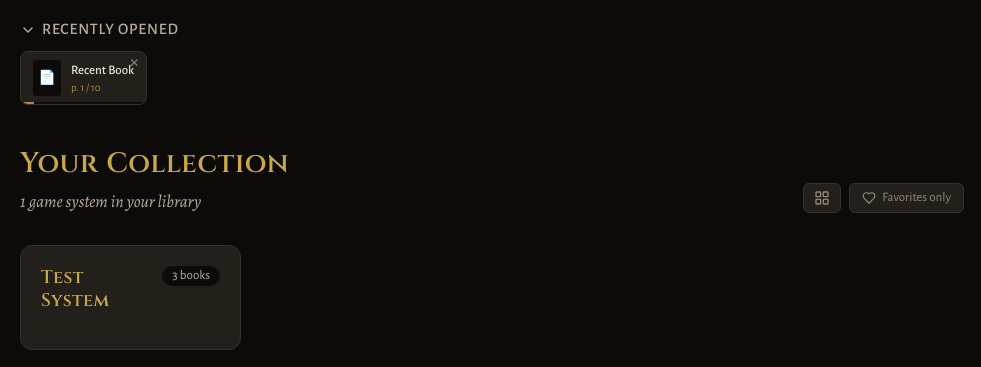
Test: LibraryView › recently opened › collapses and expands the recently opened section
expect the text "Recent Book" is shown: met, box [71,62,134,78]
Click the button "Recently Opened" at (99, 30), box [20,20,179,39]
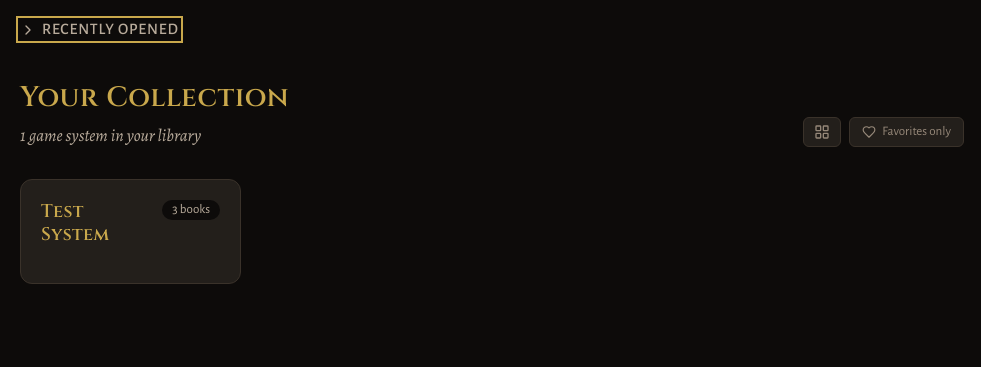
expect the button "Recently Opened" is collapsed: met, box [20,20,179,39]
